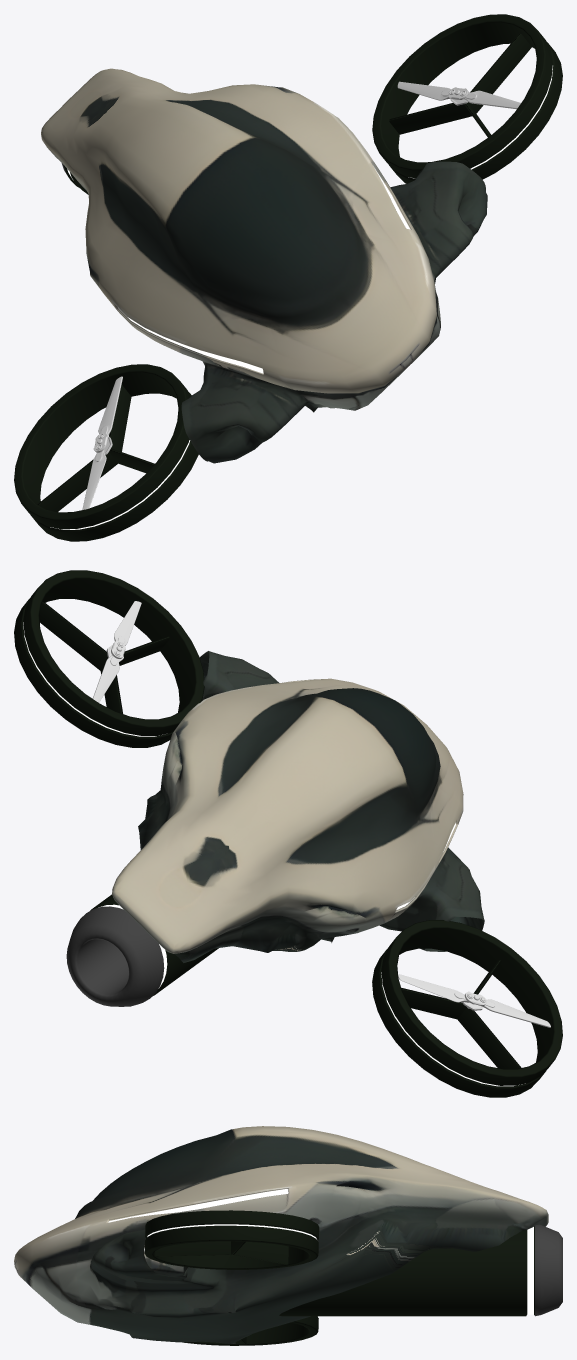
File: spaceship.glb
3 renders of one model, top to bottom at view 1: azimuth 30°, elevation 25°; view 2: azimuth 150°, elevation 25°; view 3: azimuth 270°, elevation 25°, orthographic. The views are drawn at different scales.
Visible parts, largest first — view 1: Spaceship; view 2: Spaceship; view 3: Spaceship.
Part boxes in pixels (box(x1,y1,x2,y2)): Spaceship: box(14, 14, 562, 541); Spaceship: box(14, 570, 562, 1097); Spaceship: box(14, 1126, 562, 1345).
Bounding box in the file's own units: 1.73 × 1.25 × 1.84.
Materials: 5 (1 with a texture image).
